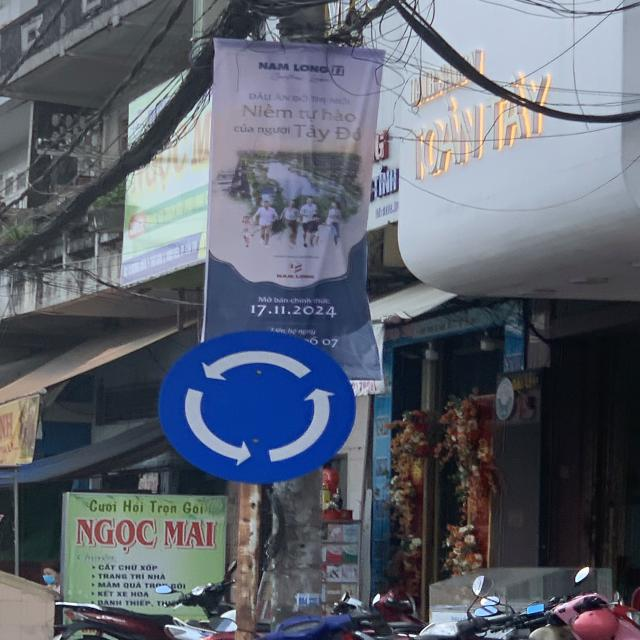Xe_Bus: (156, 328, 356, 486)
